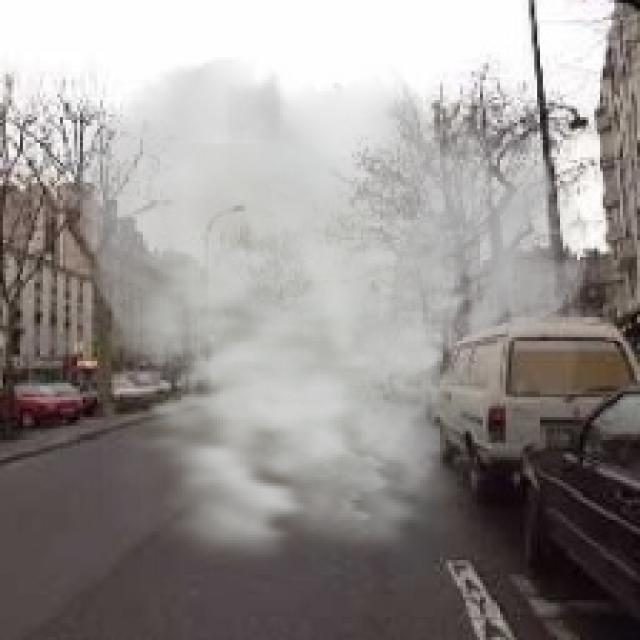Smoke: (60, 54, 594, 586)
